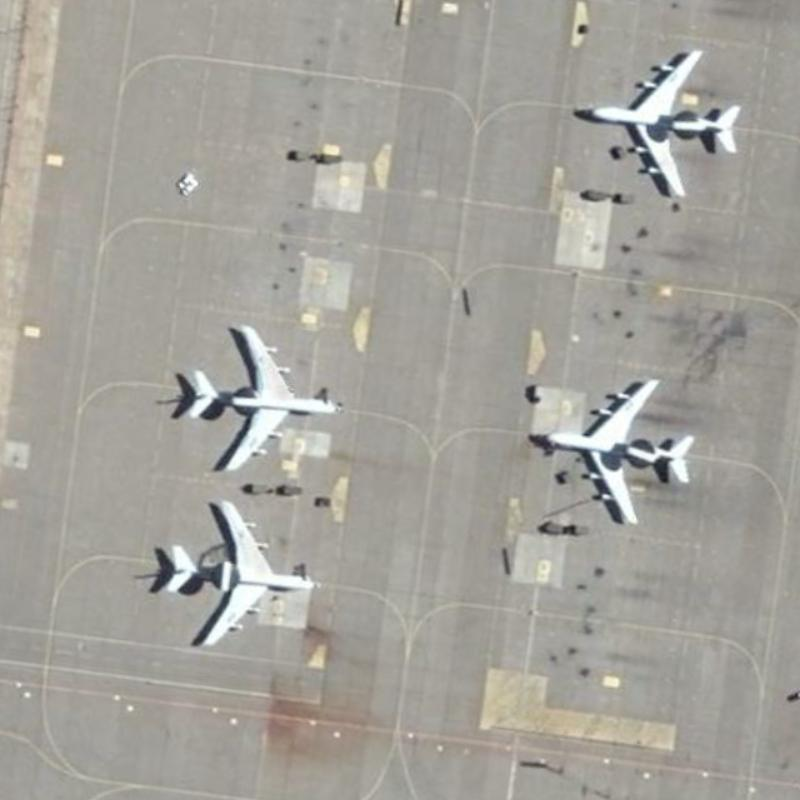A7: (567, 42, 755, 205), (529, 361, 696, 544), (169, 315, 354, 476), (151, 494, 330, 652)
